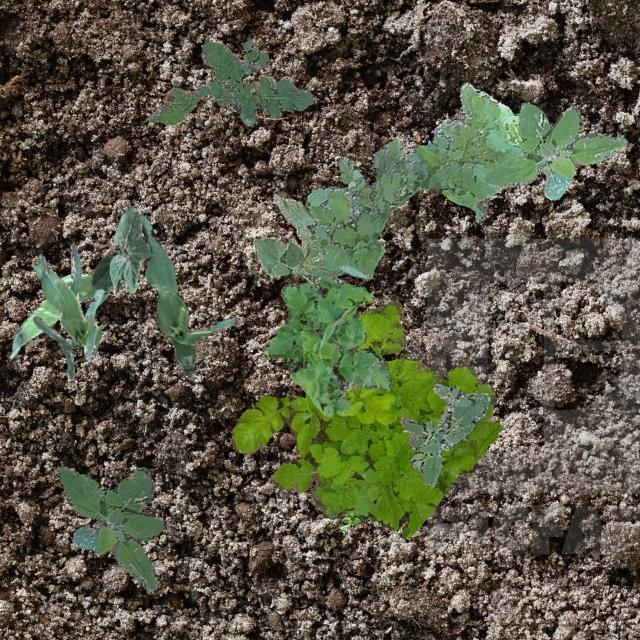crop: (138, 214, 234, 372), (252, 194, 372, 288), (32, 240, 102, 380), (9, 260, 110, 356), (90, 206, 150, 292)
weed: (230, 299, 500, 536), (304, 82, 550, 274), (260, 278, 390, 416), (480, 100, 626, 200), (146, 40, 314, 126), (56, 466, 162, 590), (399, 382, 488, 486), (338, 511, 376, 528)
